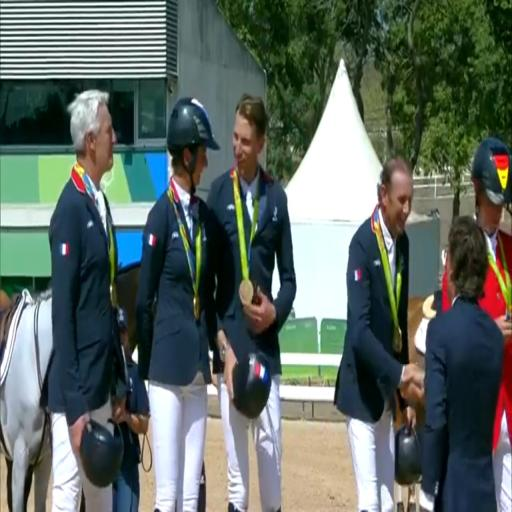nao-violencia: (136, 78, 300, 512), (330, 148, 507, 511)
